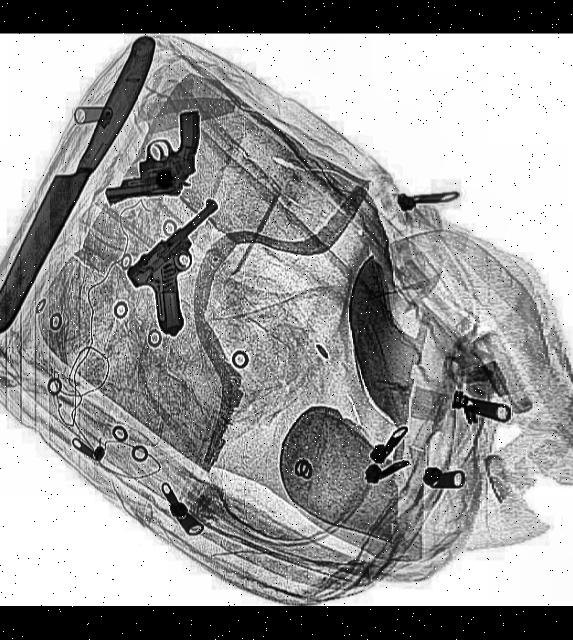Gun: (114, 194, 266, 338), (92, 106, 217, 210)
Knife: (0, 33, 164, 351)
